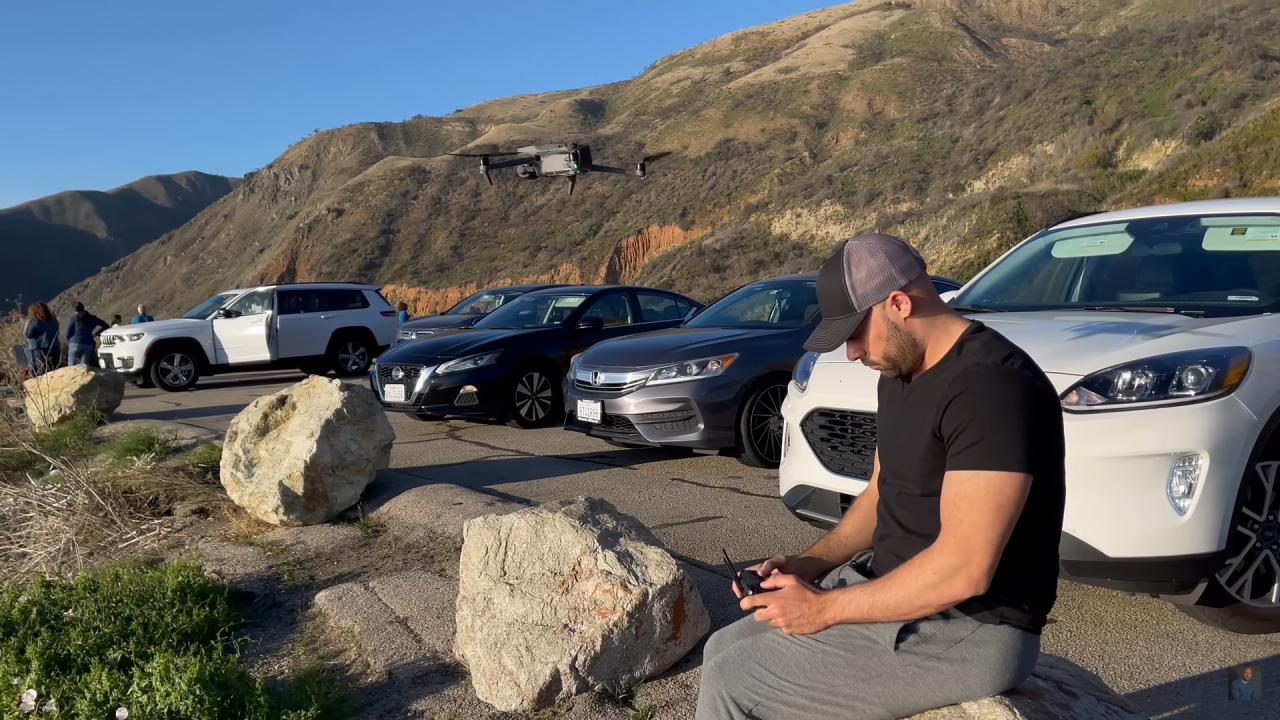Drone: (426, 116, 688, 215)
